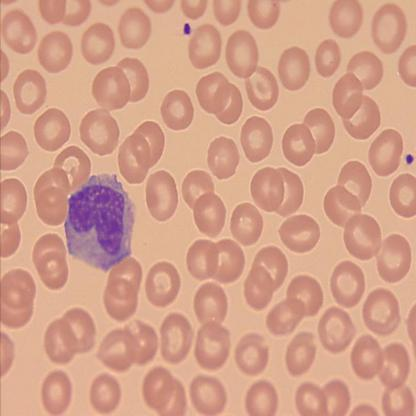Monocyte: (63, 171, 135, 273)
